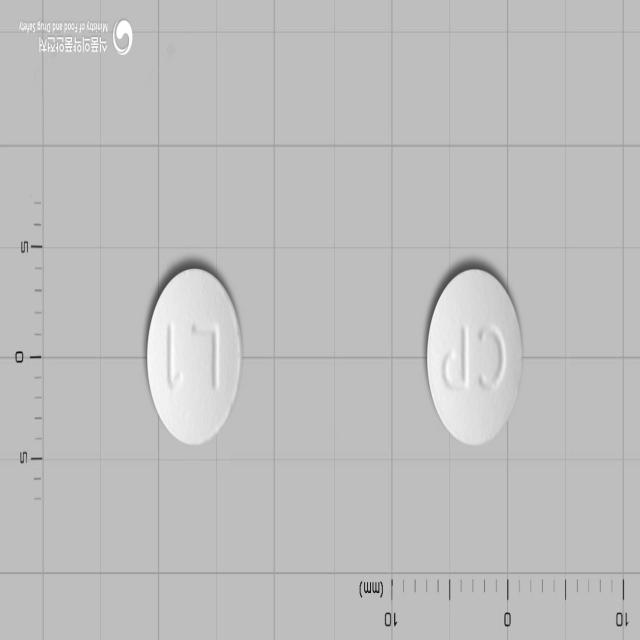Claricin - 500mg: (144, 266, 242, 449), (424, 266, 522, 447)
